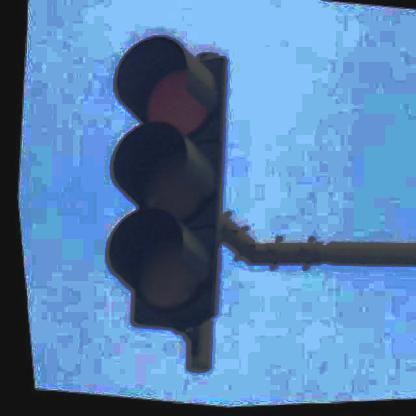Traffic Light -Red-: (75, 30, 246, 338)
